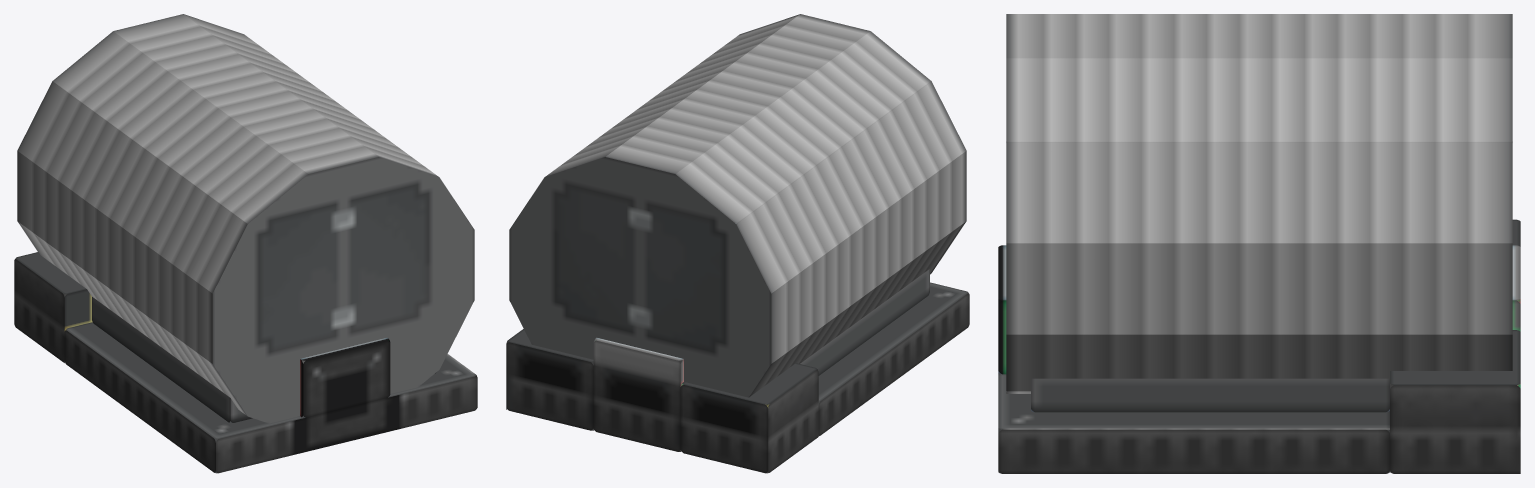
Rendered from boiler.obj.
The picture shows the model from 3 angles, left to right: view 1: azimuth 30°, elevation 25°; view 2: azimuth 150°, elevation 25°; view 3: azimuth 270°, elevation 25°; orthographic projection. The views are drawn at different scales.
Parts seen in each view (by area): view 1: cylinder, 7, 2, 6, 4; view 2: cylinder, 2, 7, 1, 5, 4; view 3: cylinder, 7, 5, 3, 6, 1.
Part boxes in pixels (x1,y1,x2,y2): cylinder: (17,14,474,423); 7: (64,322,477,473); 2: (14,252,92,362); 6: (300,337,390,417); 4: (92,297,252,422); cylinder: (509,14,966,397); 2: (680,363,818,473); 7: (766,282,969,435); 1: (593,337,683,451); 5: (506,329,593,430); 4: (800,269,929,375); cylinder: (1006,14,1512,393); 7: (998,373,1389,473); 5: (1390,330,1520,473); 3: (1031,378,1389,412); 6: (998,245,1006,374); 1: (1512,245,1520,388).
Bounding box in the file's own units: 3 × 3 × 4.
